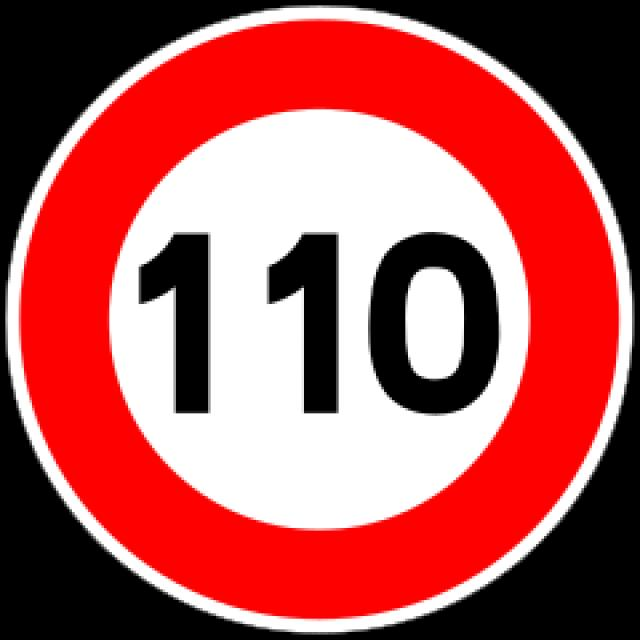Speed Limit -110-: (124, 221, 522, 436)
